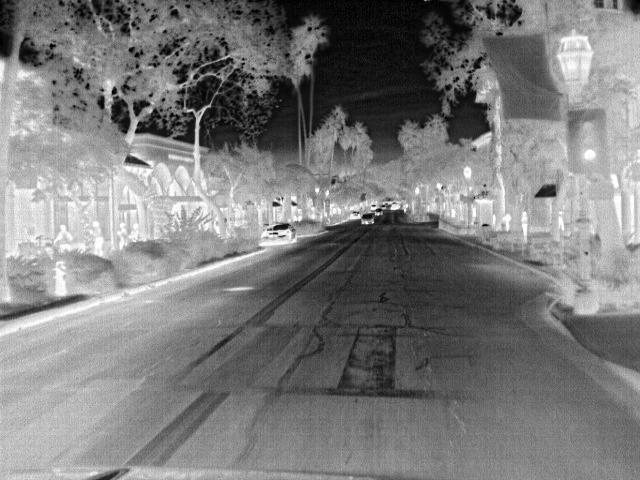car: (257, 223, 299, 249), (358, 213, 375, 226), (373, 208, 383, 218)
person: (84, 219, 103, 260), (53, 221, 74, 253), (115, 220, 128, 252), (501, 211, 513, 232)
